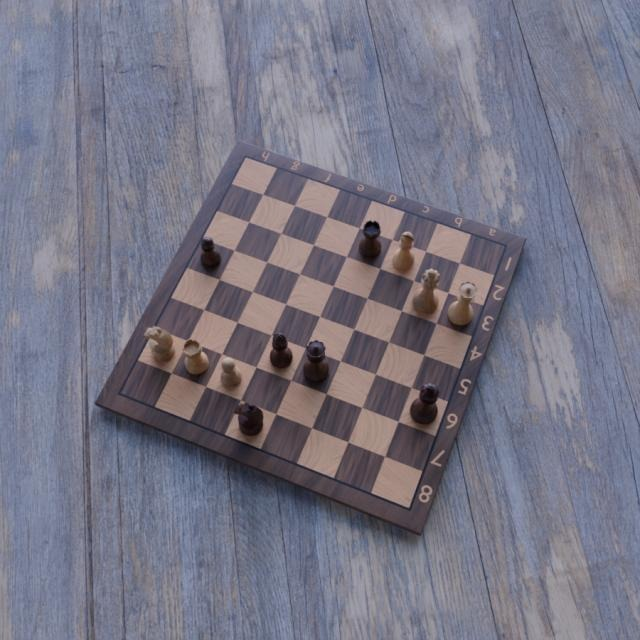black-bishop: (268, 331, 293, 369)
black-king: (410, 381, 440, 425)
black-knight: (232, 401, 264, 437)
black-pawn: (200, 235, 222, 269)
black-queen: (302, 340, 330, 384)
black-rook: (357, 220, 384, 260)
white-bishop: (392, 229, 415, 271)
white-king: (411, 267, 441, 313)
white-knight: (143, 324, 177, 363)
white-pawn: (219, 355, 244, 389)
white-queen: (446, 279, 478, 327)
white-rook: (182, 336, 210, 376)
